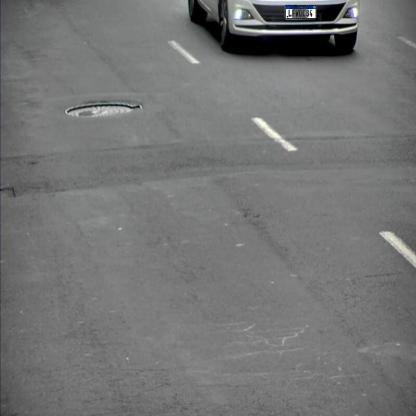PlacaM: (286, 5, 316, 19)
